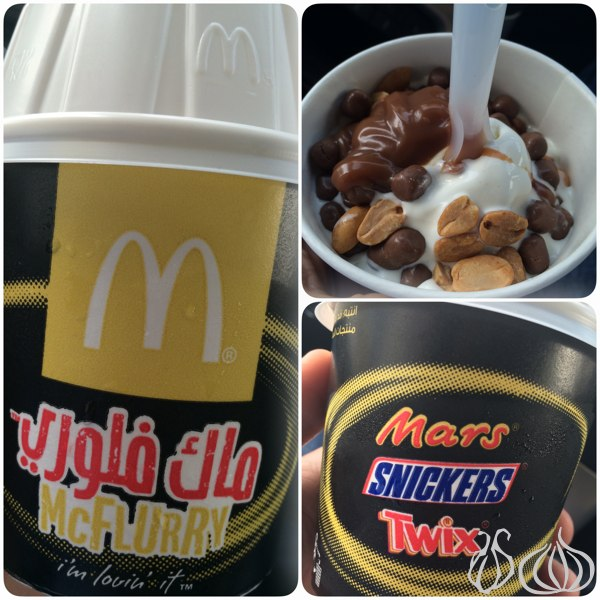mcdonalds: (78, 222, 231, 370)
